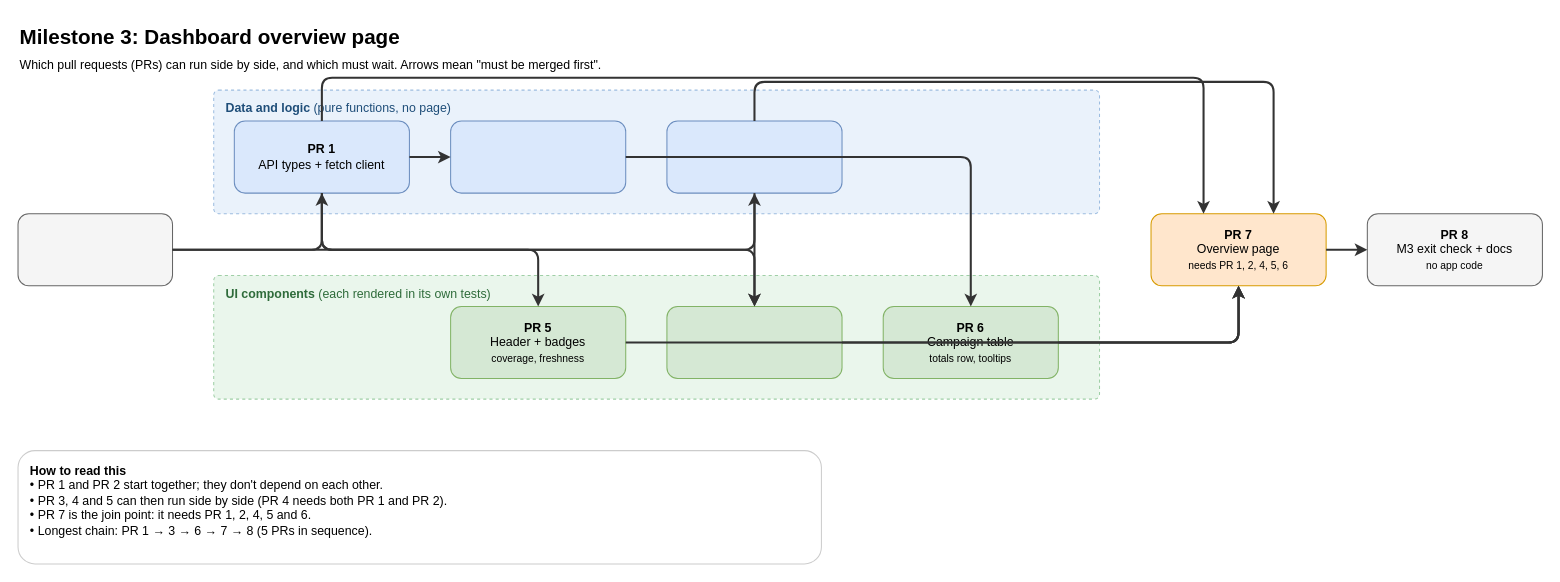
This 1560x582 diagram has some shape labels left out. The box of each missing label's shape, as (x1, y1, x2, y2) in pixels:
M2 API merged all endpoints: (17, 213, 173, 286)
PR 2 Date presets quarter math: (666, 120, 842, 193)
PR 3 Formatting + sorting nulls last, pinning: (450, 120, 626, 193)
PR 4 Filter bar URL-driven: (666, 305, 842, 379)
